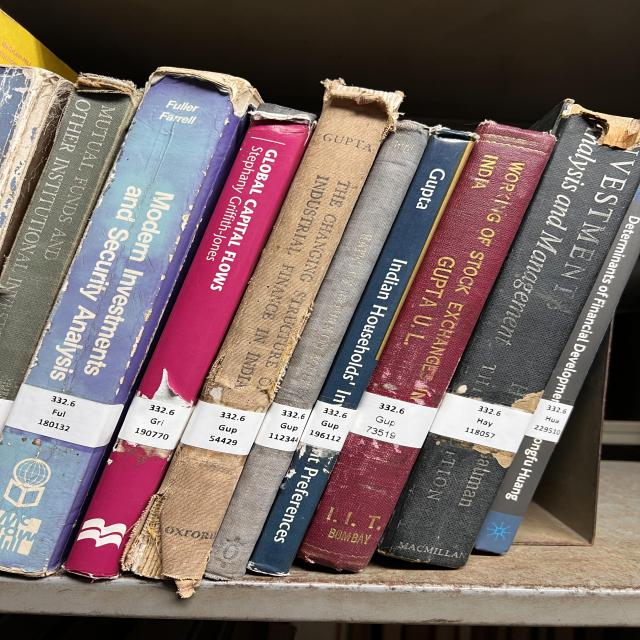Book: (0, 72, 253, 576), (160, 80, 402, 598), (378, 101, 640, 568), (65, 106, 312, 579), (298, 121, 555, 571), (205, 120, 430, 580), (248, 130, 472, 575), (475, 189, 640, 552), (0, 74, 142, 431)
Label: (5, 384, 123, 448), (430, 392, 532, 452), (350, 391, 437, 449), (180, 401, 265, 455), (118, 396, 192, 450), (300, 400, 357, 451), (255, 402, 312, 451), (525, 399, 573, 442)
